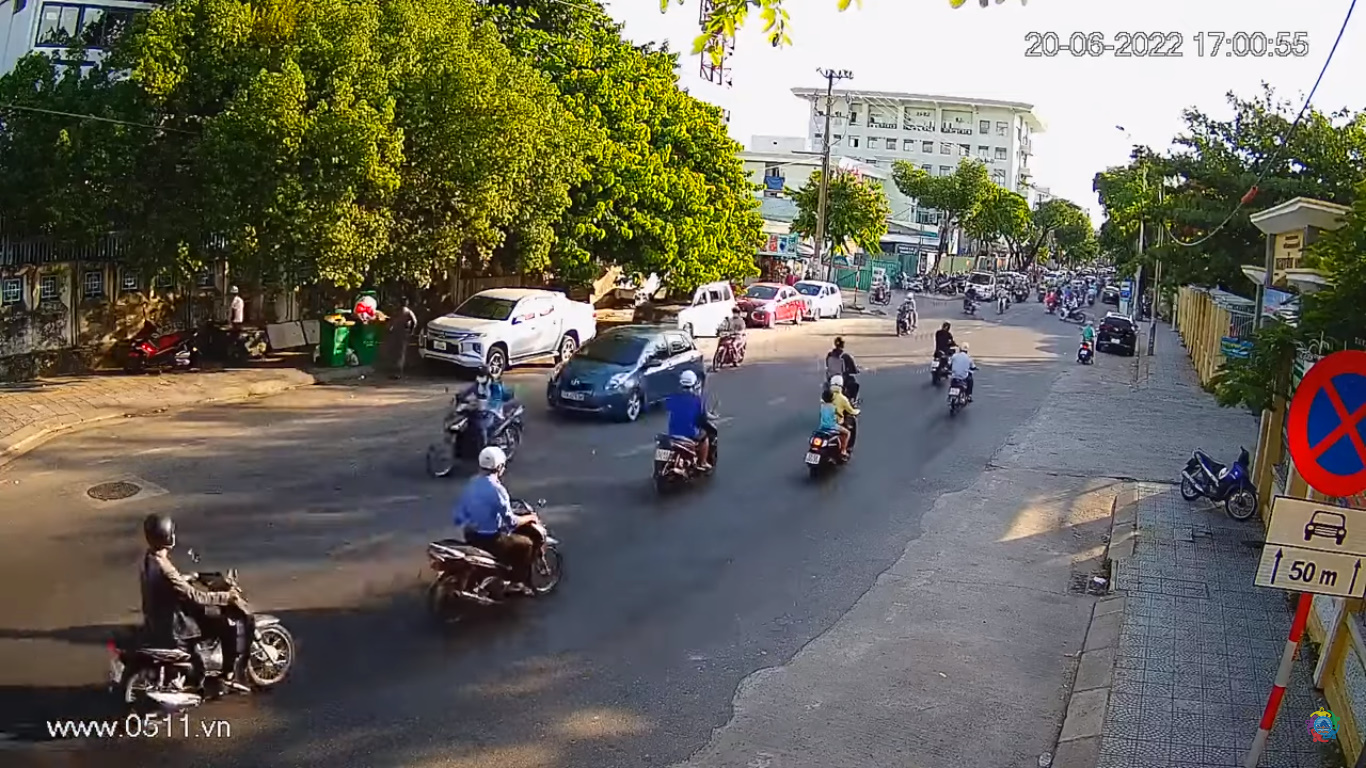car: (552, 324, 713, 425)
